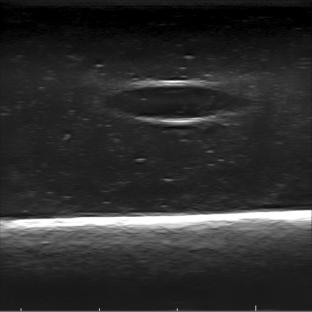vessel: (106, 78, 241, 125)
